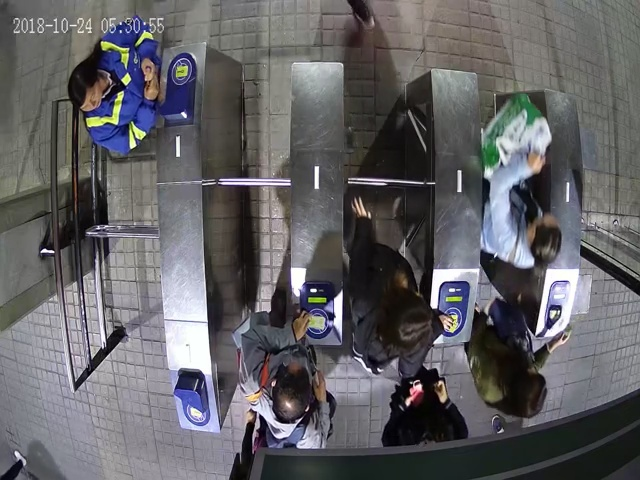Chaleco_azul: (69, 18, 161, 153)
